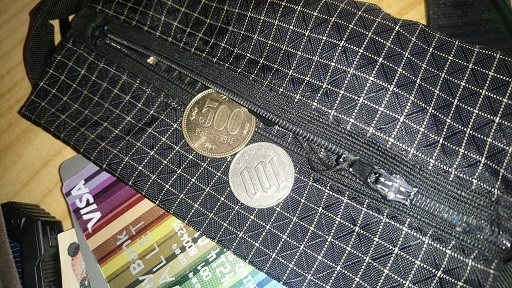100yen: (229, 143, 294, 207)
500yen: (182, 88, 255, 158)
